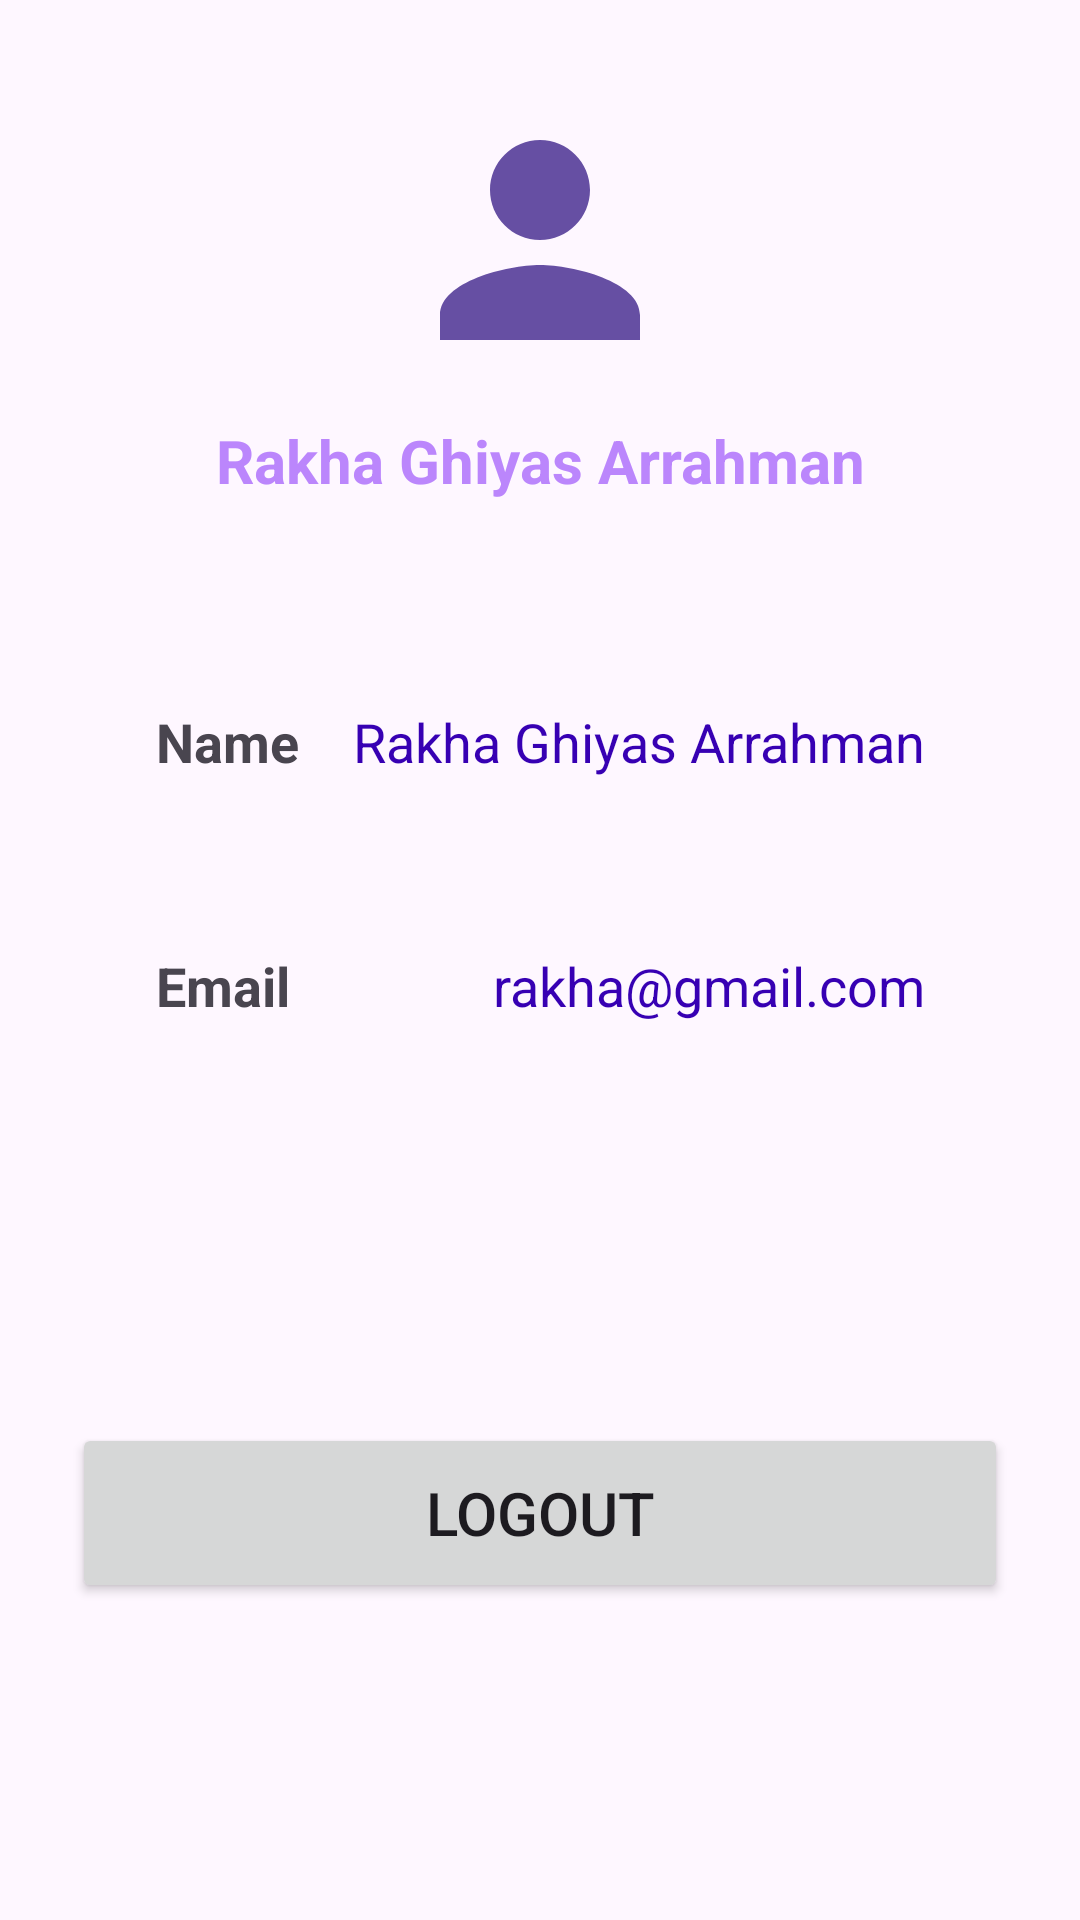

Icon bounding boxes for this 1080 x 1920 phone screenshot, format Rect(x1, y1, x2, y2):
person: Rect(440, 140, 640, 340)
